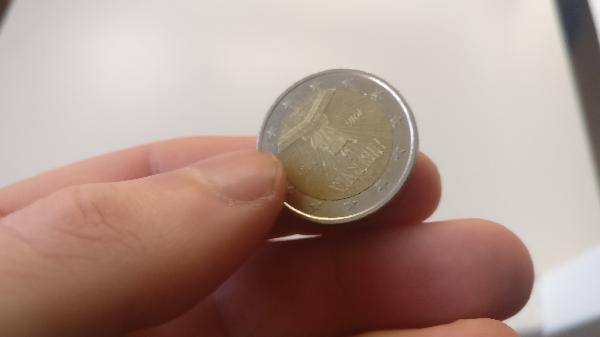Two Euro: (258, 68, 418, 223)
